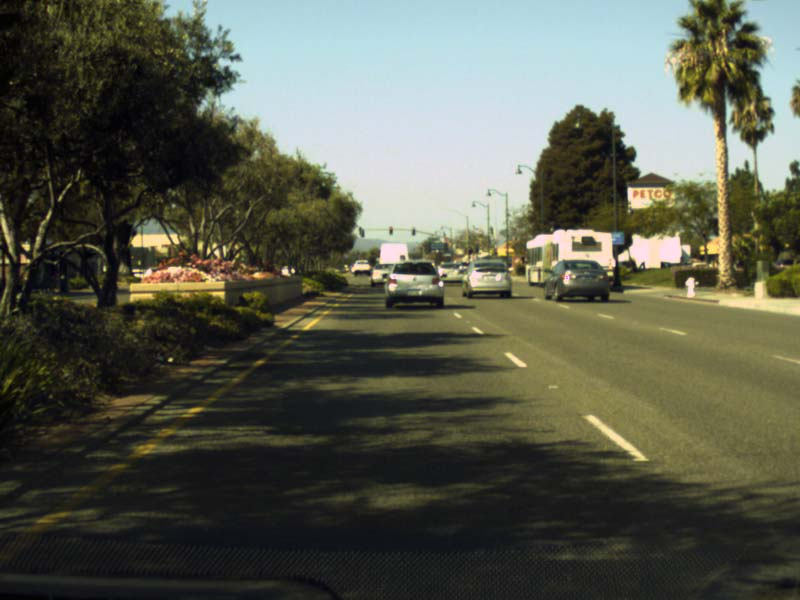Red: (388, 225, 392, 235)
